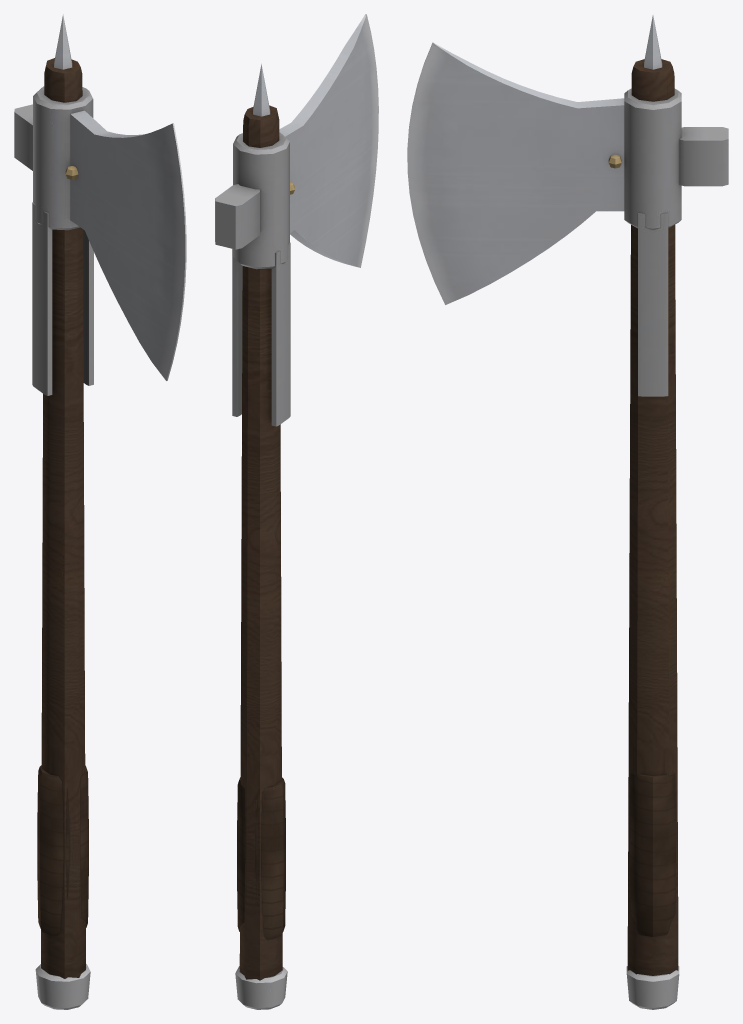
File: axe.glb
3 renders of one model, left to right at view 1: azimuth 30°, elevation 25°; view 2: azimuth 150°, elevation 25°; view 3: azimuth 270°, elevation 25°, orthographic. The views are drawn at different scales.
Parts seen in each view (by area): view 1: SM_V_axe, SM_V_axe_Faste; view 2: SM_V_axe, SM_V_axe_Faste; view 3: SM_V_axe, SM_V_axe_Faste.
Boxes of the visible parts, x1,y1,x2,y2 form: SM_V_axe: (14,14,186,978); SM_V_axe_Faste: (35,166,90,1009); SM_V_axe: (215,14,378,980); SM_V_axe_Faste: (235,182,294,1009); SM_V_axe: (407,15,728,975); SM_V_axe_Faste: (608,154,679,1009).
Size of the model in its own units: 0.048 by 0.865 by 0.2551.
1 material, 1 textured.
